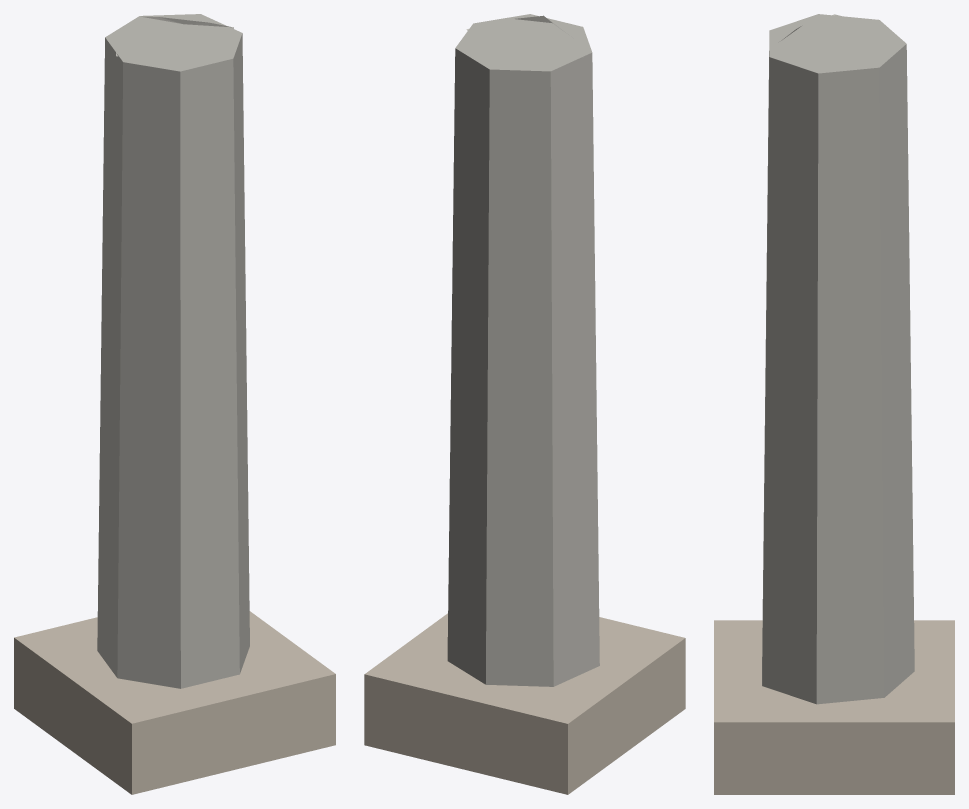
File: column_v12.glb
3 renders of one model, left to right at view 1: azimuth 30°, elevation 25°; view 2: azimuth 150°, elevation 25°; view 3: azimuth 270°, elevation 25°, orthographic. The views are drawn at different scales.
Parts seen in each view (by area): view 1: lod0; view 2: lod0; view 3: lod0.
Boxes of the visible parts, x1,y1,x2,y2 form: lod0: [14, 14, 335, 794]; lod0: [364, 14, 685, 794]; lod0: [714, 14, 954, 794].
Size of what is drawn, in the model's own units: 0.48 by 1.59 by 0.48.
